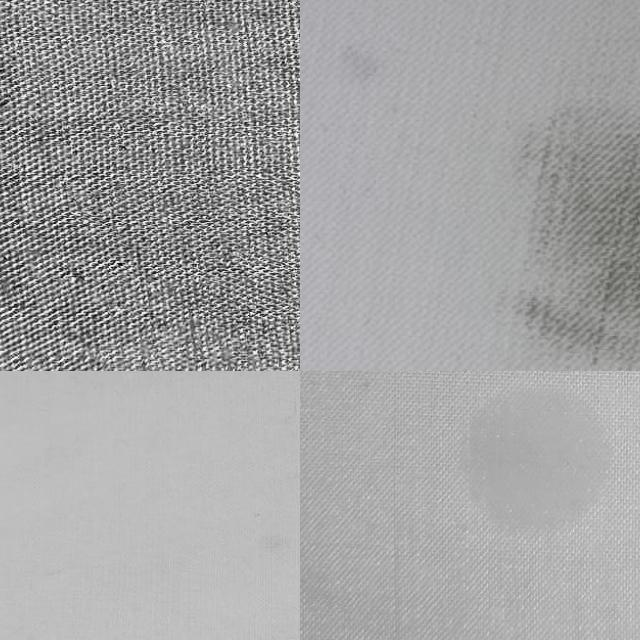Hole: (394, 371, 640, 614), (465, 71, 640, 371)
